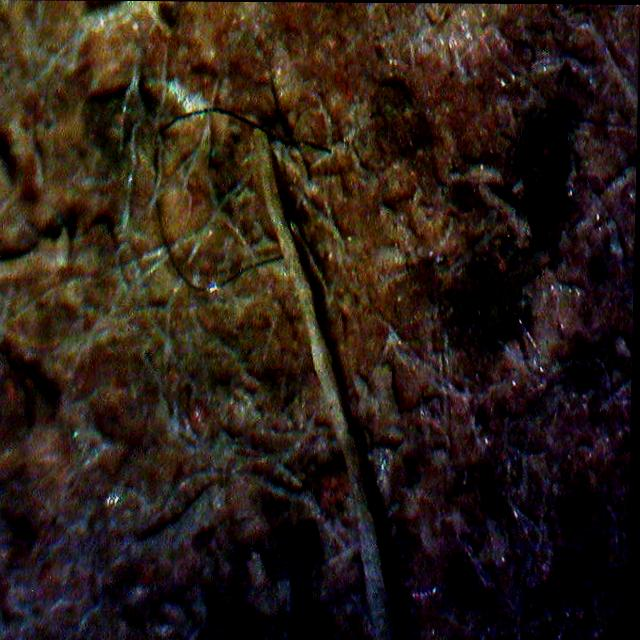microplastic: (110, 90, 334, 320)
